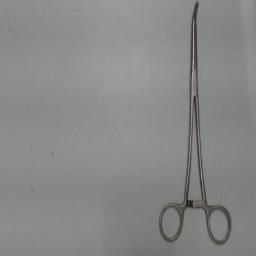Lahey Forceps: (154, 0, 234, 248)
